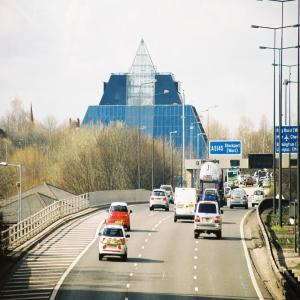Vehicle-registration-plate: (109, 246, 118, 249), (206, 219, 211, 224), (117, 222, 123, 224)
